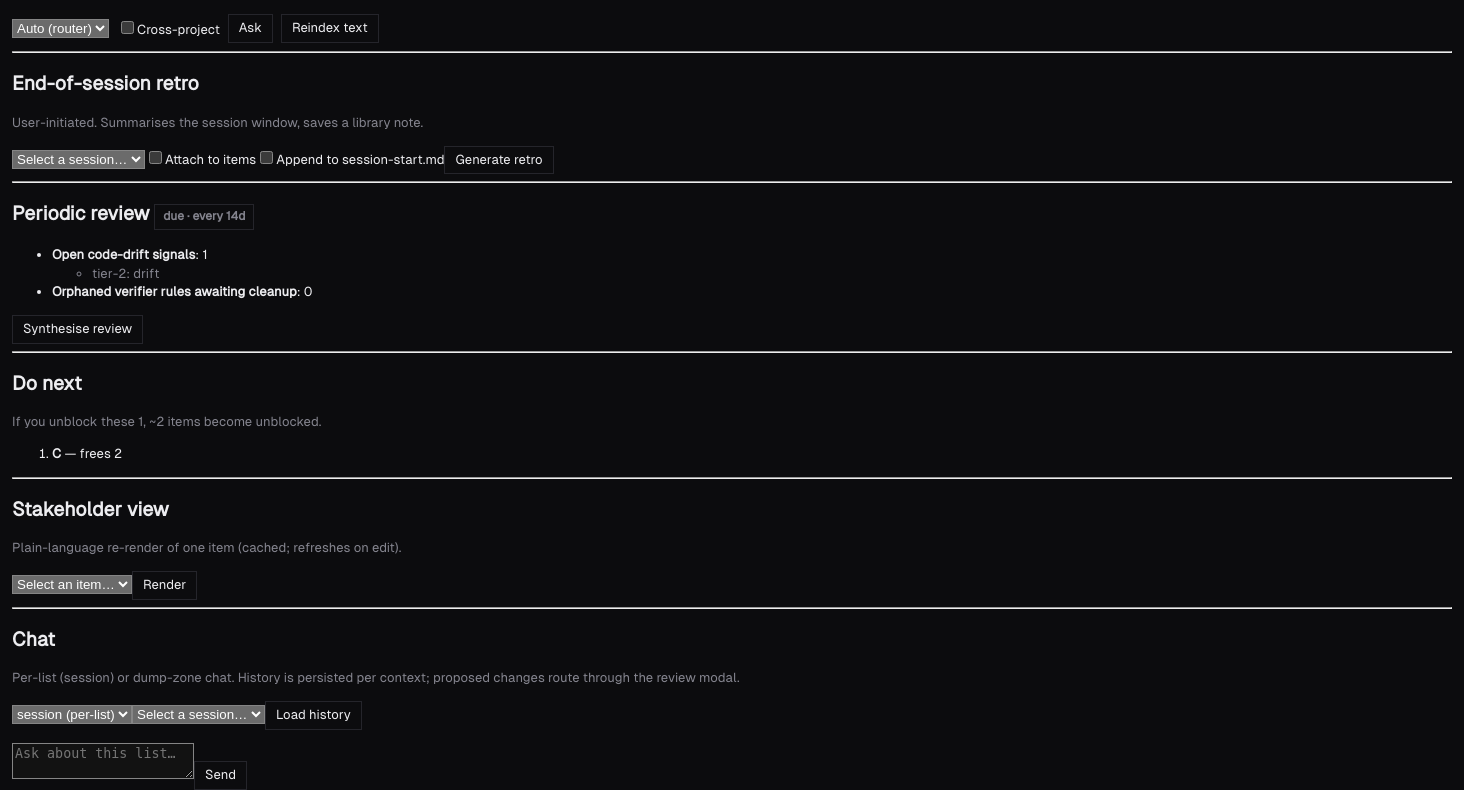
Phase 14 — Intelligence (RAG) surface › sends a per-list chat turn and appends the exchange to the log
(page scrolled)
Select "Sprint 3" in the dropdown with test id "chat-ctx-id" at (198, 715), box x1=132 y1=705 x2=265 y2=724
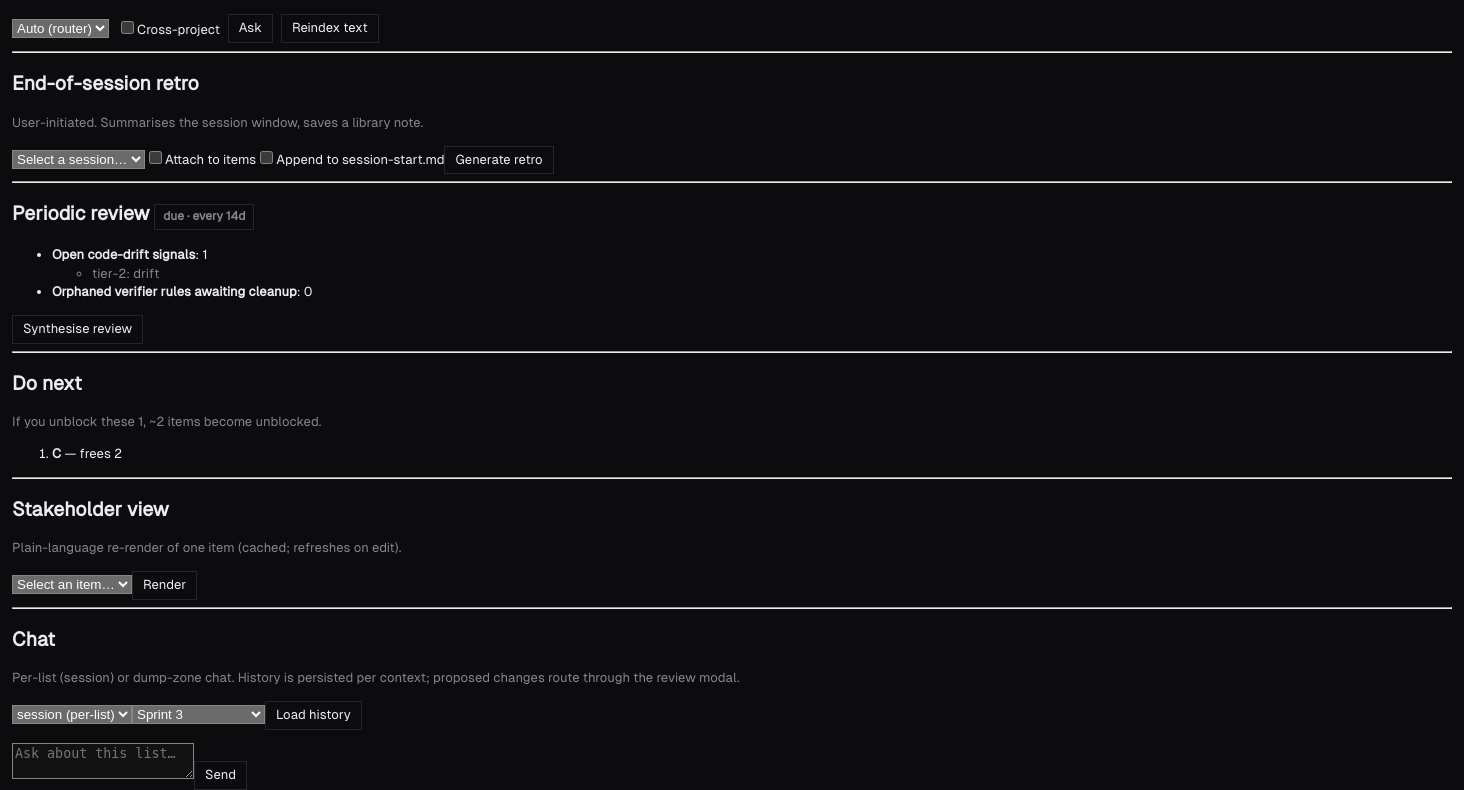
Type "what should I do next" into the text box with test id "chat-input" at (103, 761), box x1=12 y1=743 x2=194 y2=779
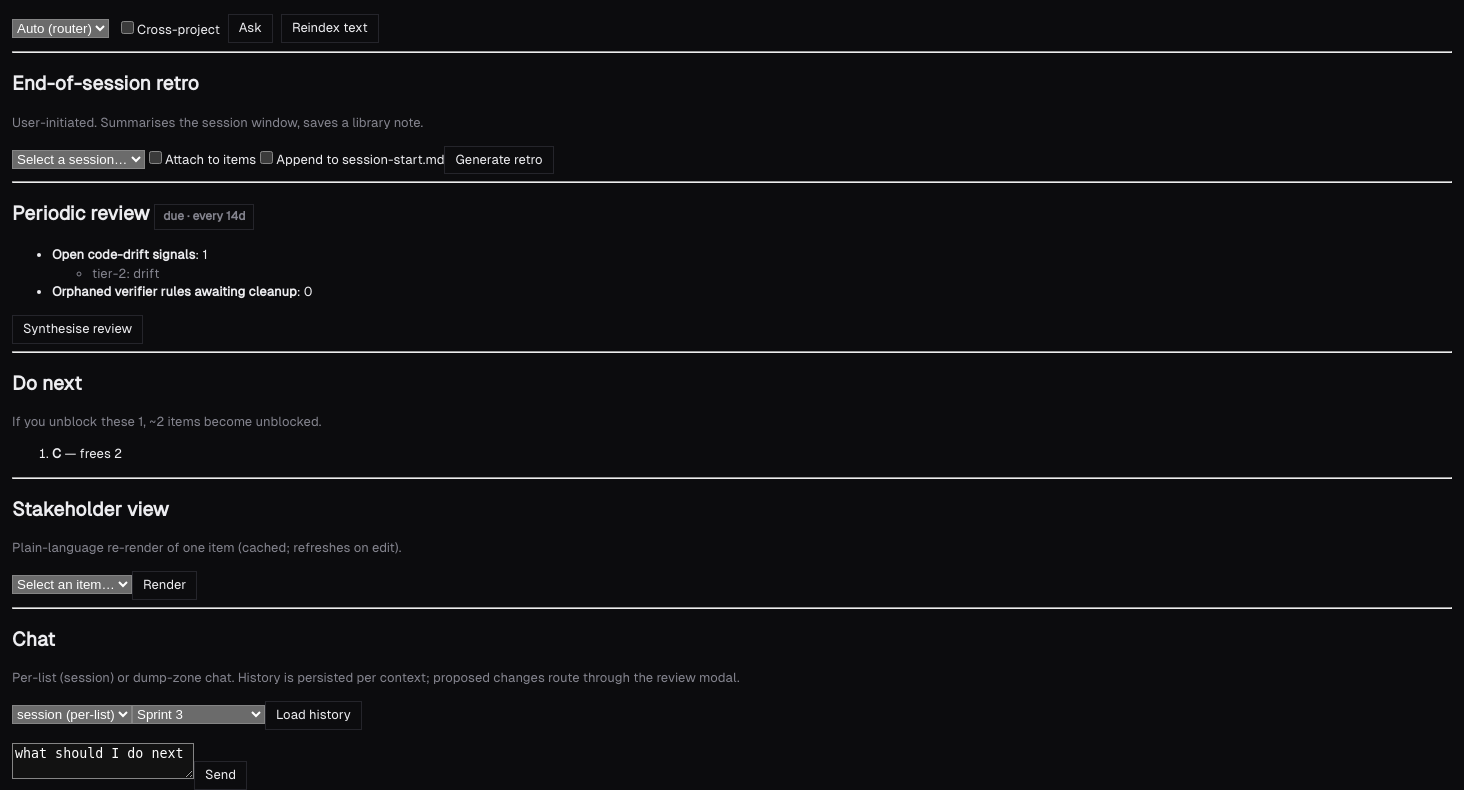
Click the button with test id "chat-send" at (220, 775), box x1=194 y1=761 x2=247 y2=789
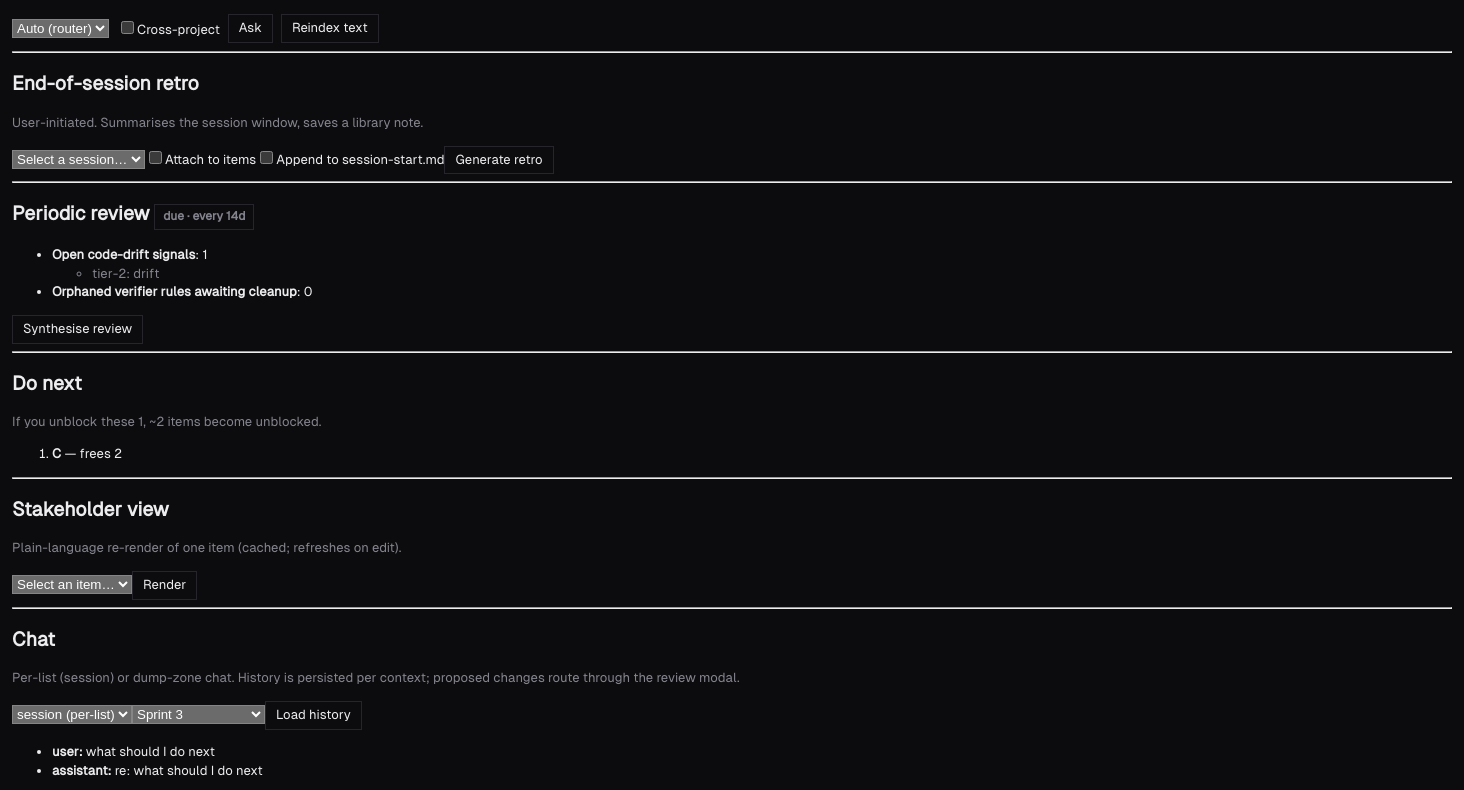
Expected: the list with test id "chat-log" shows "re: what should I do next", x1=115 y1=763 x2=263 y2=778
